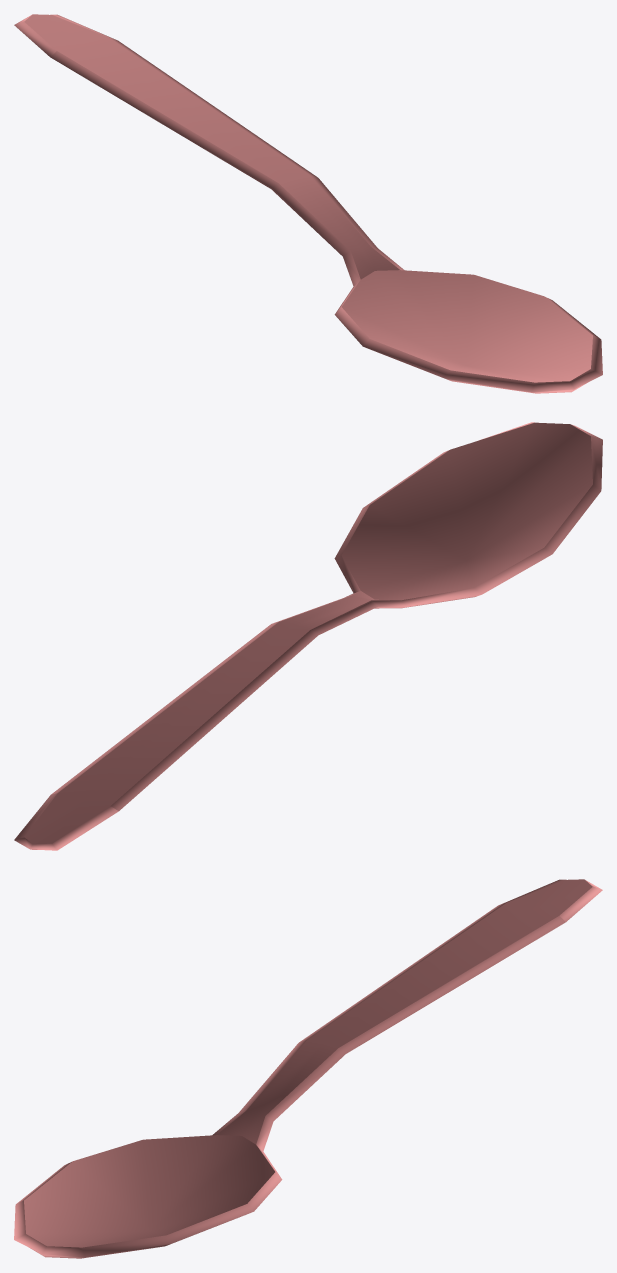
File: TFYK_spoon.FBX
The picture shows the model from 3 angles, top to bottom: view 1: azimuth 30°, elevation 25°; view 2: azimuth 150°, elevation 25°; view 3: azimuth 330°, elevation 25°; orthographic projection.
Parts seen in each view (by area): view 1: TFYK_spoon; view 2: TFYK_spoon; view 3: TFYK_spoon.
Boxes of the visible parts, x1,y1,x2,y2 form: TFYK_spoon: (14,14,602,393); TFYK_spoon: (14,422,602,850); TFYK_spoon: (14,879,602,1258).
Size of the model in its own units: 0.0298 by 0.0106 by 0.1481.
